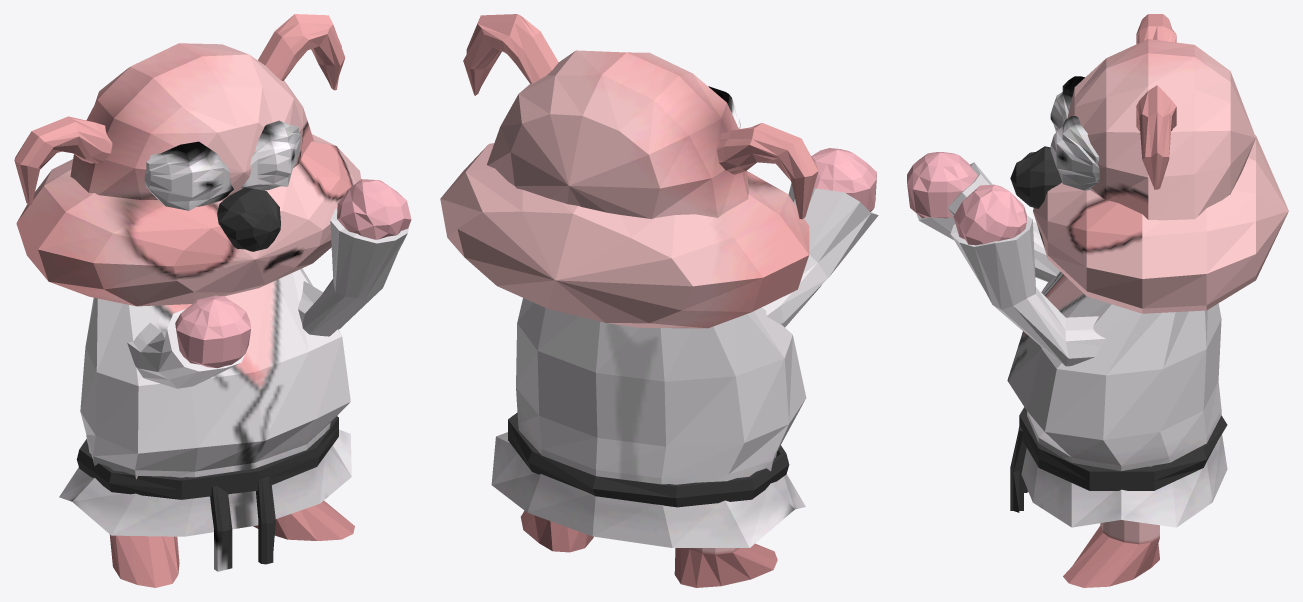
File: InvZiggy.glb
3 views of the same model, side by side, from view 1: azimuth 30°, elevation 25°; view 2: azimuth 150°, elevation 25°; view 3: azimuth 270°, elevation 25° (orthographic). The views are drawn at different scales.
Parts seen in each view (by area): view 1: InvZiggy; view 2: InvZiggy; view 3: InvZiggy.
Part boxes in pixels (left/top/right/bottom): InvZiggy: left=14, top=14, right=411, bottom=587; InvZiggy: left=440, top=14, right=878, bottom=587; InvZiggy: left=907, top=14, right=1288, bottom=587.
Bounding box in the file's own units: 20.6 × 28.84 × 20.32.
Materials: 1 (1 with a texture image).
